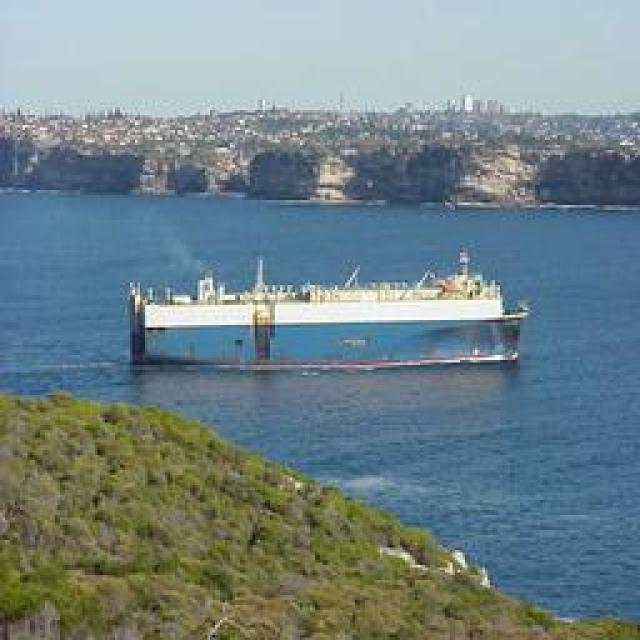CIV_Ship: (131, 258, 529, 364)
